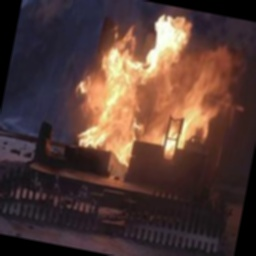fire: (56, 0, 252, 189)
